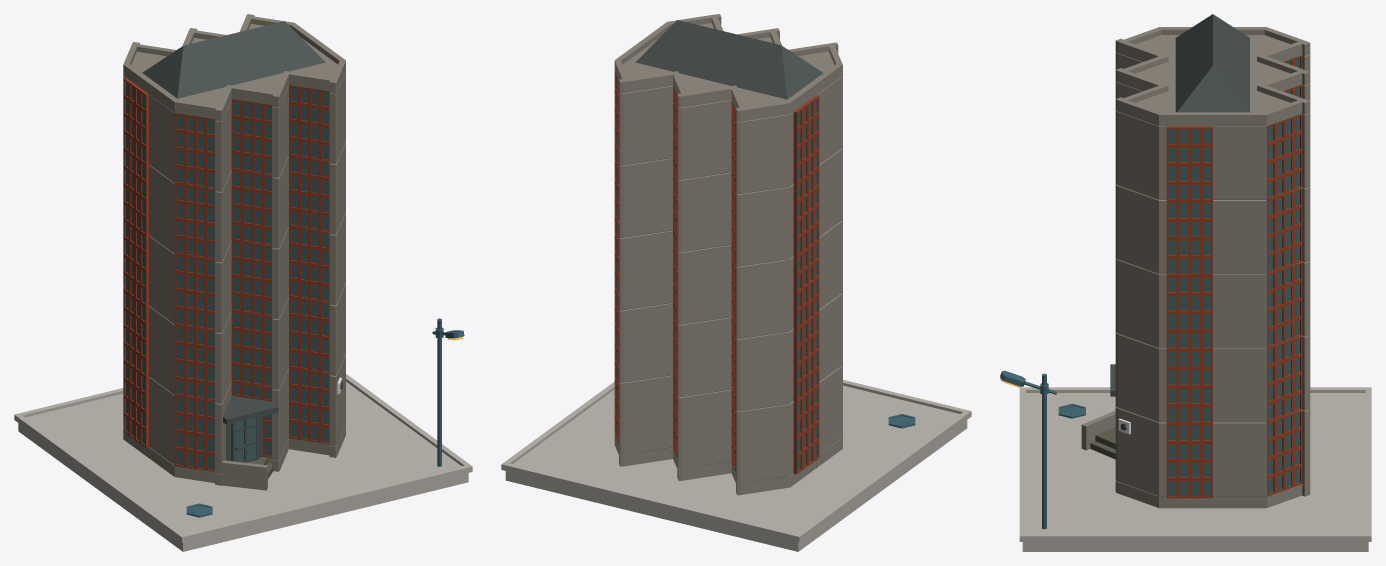
File: Skyscraper.glb
The picture shows the model from 3 angles, left to right: view 1: azimuth 30°, elevation 25°; view 2: azimuth 150°, elevation 25°; view 3: azimuth 270°, elevation 25°; orthographic projection. The views are drawn at different scales.
Visible parts, largest first — view 1: Plane105, Group688, Group686, Group687, Group685, Group689, Box15936, Box15935, Rectangle027, Box15931, Plane104, Box15933 (+2 smaller); view 2: Plane105, Group688, Group685, Group689, Group687, Group686, Box15936, Box15935, Rectangle027, Box15931; view 3: Plane105, Group688, Group687, Group685, Group686, Group689, Box15935, Box15936, Rectangle027, Box15931, street_light_009, Plane104 (+1 smaller).
Boxes of the visible parts, x1,y1,x2,y2 form: Plane105: (18, 381, 468, 551); Group688: (123, 72, 345, 191); Group686: (123, 213, 345, 333); Group687: (123, 142, 345, 262); Group685: (123, 283, 345, 403); Group689: (123, 354, 345, 474); Box15936: (142, 21, 325, 98); Box15935: (123, 14, 345, 121); Rectangle027: (14, 374, 472, 542); Box15931: (123, 424, 345, 485); Plane104: (221, 460, 267, 490); Box15933: (231, 417, 258, 462); Plane105: (505, 385, 967, 551); Group688: (614, 72, 842, 194); Group685: (614, 289, 842, 411); Group689: (614, 362, 842, 483); Group687: (614, 145, 842, 266); Group686: (614, 217, 842, 338); Box15936: (635, 20, 823, 99); Box15935: (614, 14, 842, 121); Rectangle027: (501, 380, 971, 542); Box15931: (614, 434, 842, 495); Plane105: (1022, 393, 1368, 551); Group688: (1115, 52, 1310, 201); Group687: (1115, 184, 1310, 275); Group685: (1115, 332, 1310, 423); Group686: (1115, 258, 1310, 349); Group689: (1115, 406, 1310, 498); Box15935: (1115, 27, 1310, 126); Box15936: (1175, 14, 1249, 112); Rectangle027: (1019, 387, 1371, 541); Box15931: (1115, 481, 1310, 508); street_light_009: (1000, 370, 1056, 529); Plane104: (1081, 410, 1115, 450).
Bounding box in the file's own units: 11.2 × 15.38 × 11.82.
